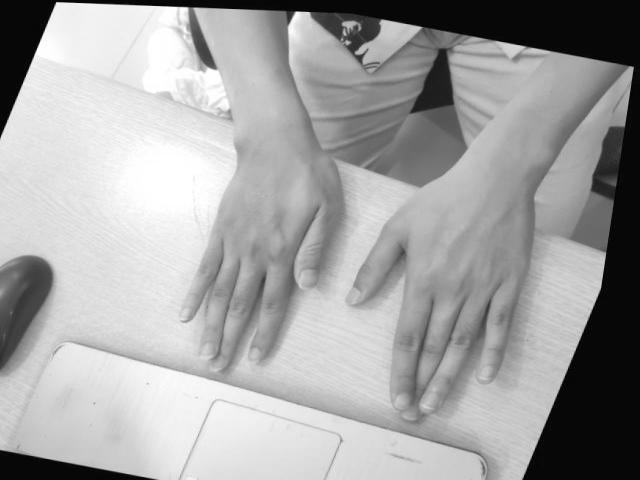not-gloved: (350, 176, 538, 420), (180, 148, 344, 370)
